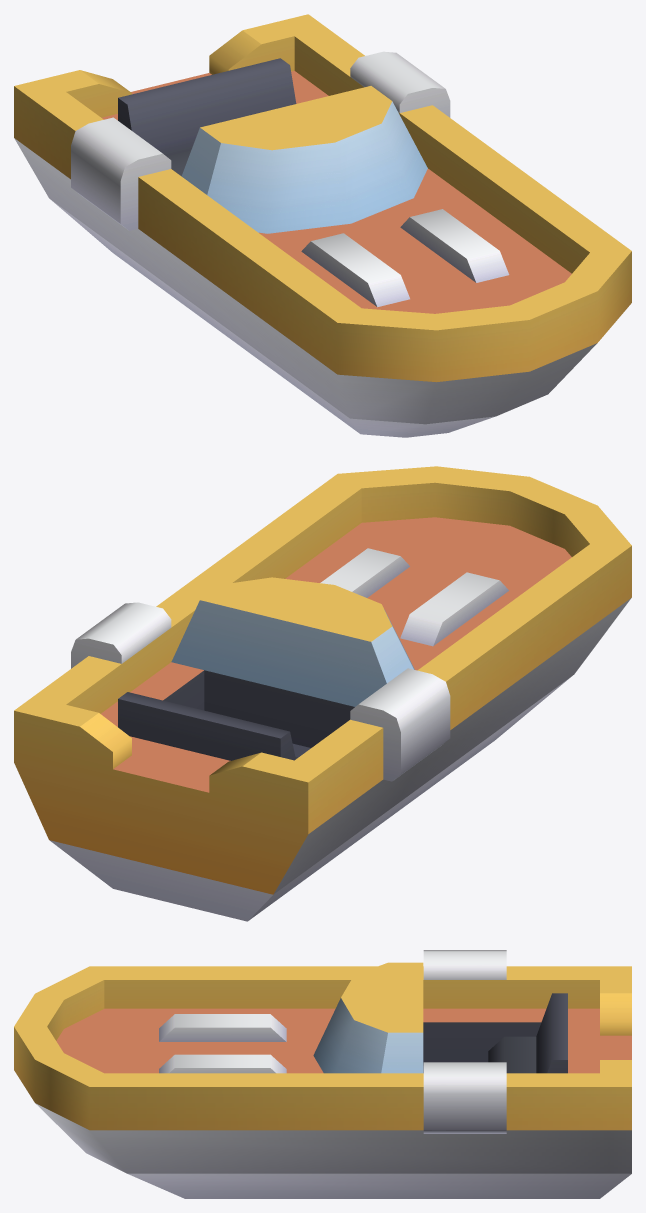
Rendered from boat-speed-d-transformed-transformed.glb.
The picture shows the model from 3 angles, top to bottom: view 1: azimuth 30°, elevation 25°; view 2: azimuth 150°, elevation 25°; view 3: azimuth 270°, elevation 25°; orthographic projection. The views are drawn at different scales.
Visible parts, largest first — view 1: boat-speed-d; view 2: boat-speed-d; view 3: boat-speed-d.
Boxes of the visible parts, <box> form: boat-speed-d: <box>14,14,631,437</box>; boat-speed-d: <box>14,466,631,921</box>; boat-speed-d: <box>14,950,631,1198</box>.
Bounding box in the file's own units: 2 × 1.2 × 3.87.
Materials: 1 (1 with a texture image).
